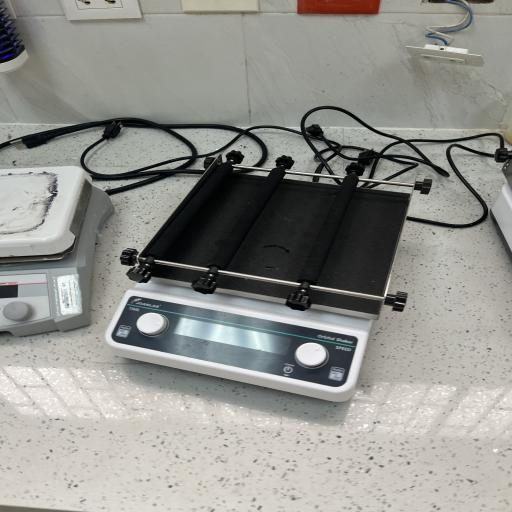Agitador_Orbital_DLAB: (93, 154, 445, 415)
